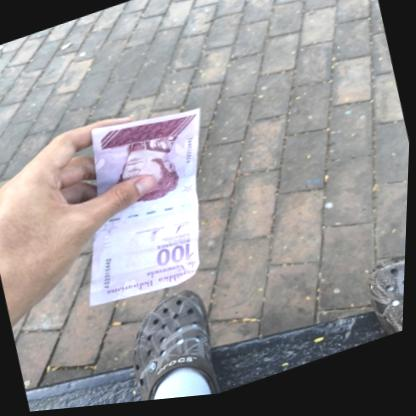one_hundred-front-vef: (50, 93, 243, 319)
